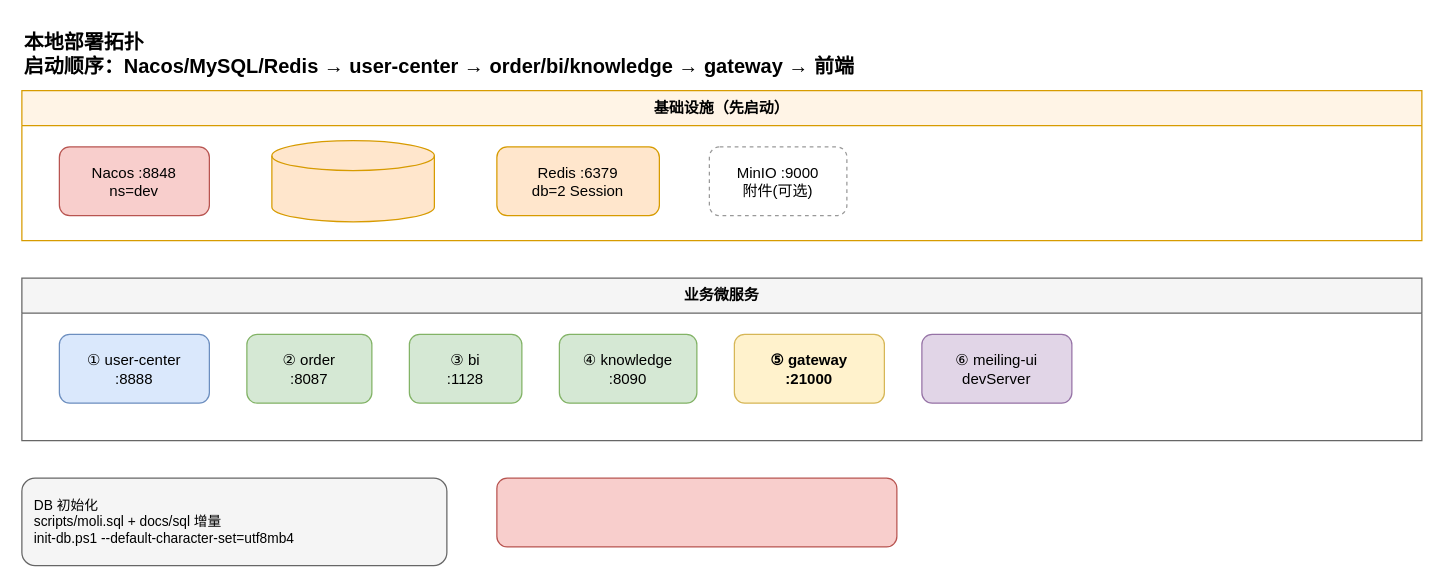
Image size: 1444x588. Some labels were removed from this diagram. Here are the shapes that lost their labels. From the top down, the centre of each, then its label:
At point 352,180: "MySQL :3306 库 moli utf8mb4".
At point 696,512: "⚠ 全服务共用同一 Redis 实例与 db=2 否则跨服务 Session 校验失败".
